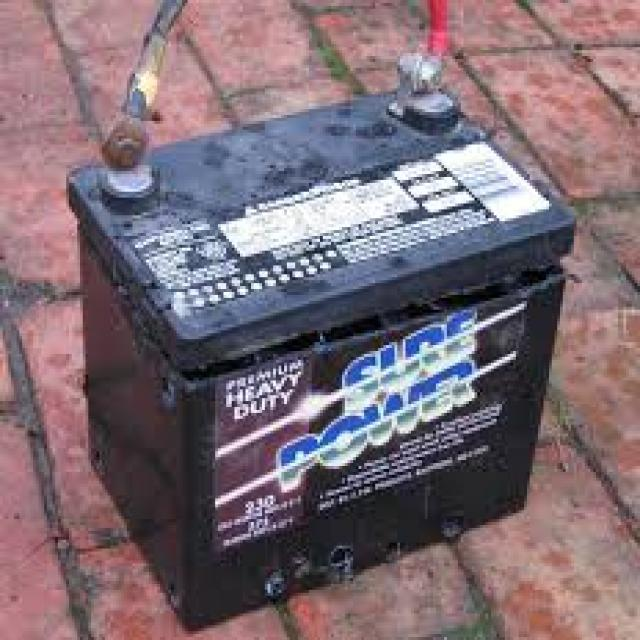non-organic waste: (72, 0, 574, 627)
